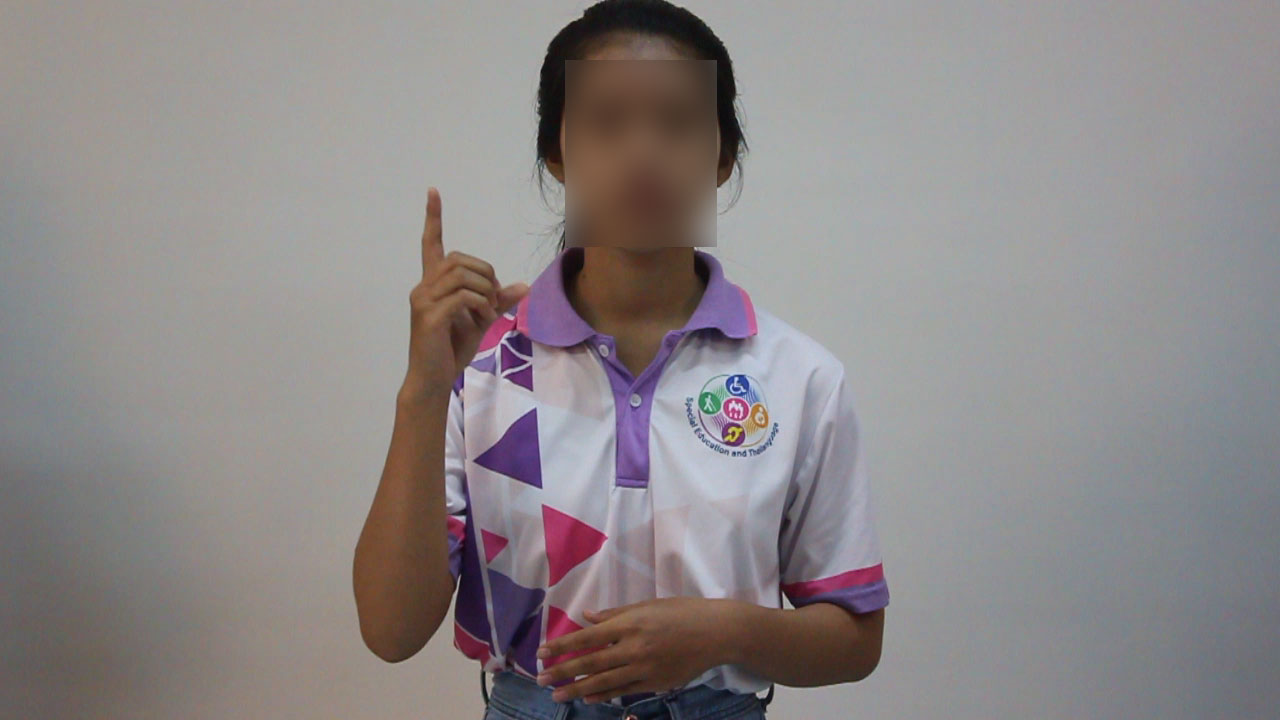dor: (394, 180, 536, 393)
